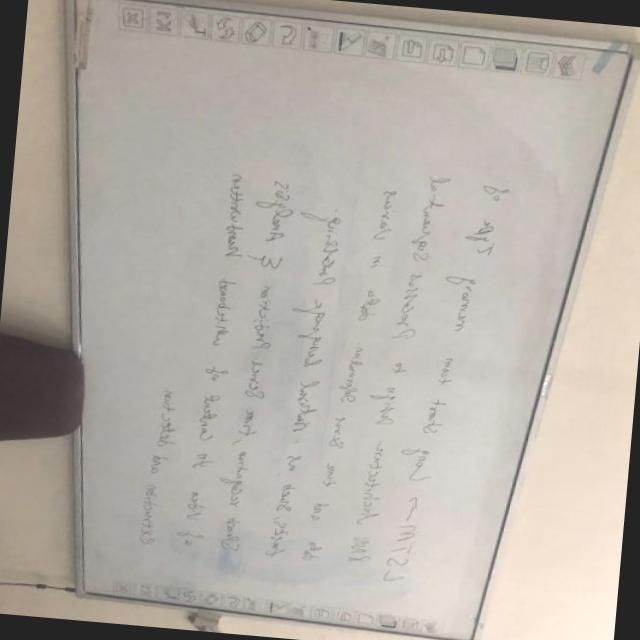White-board: (68, 0, 634, 640)
